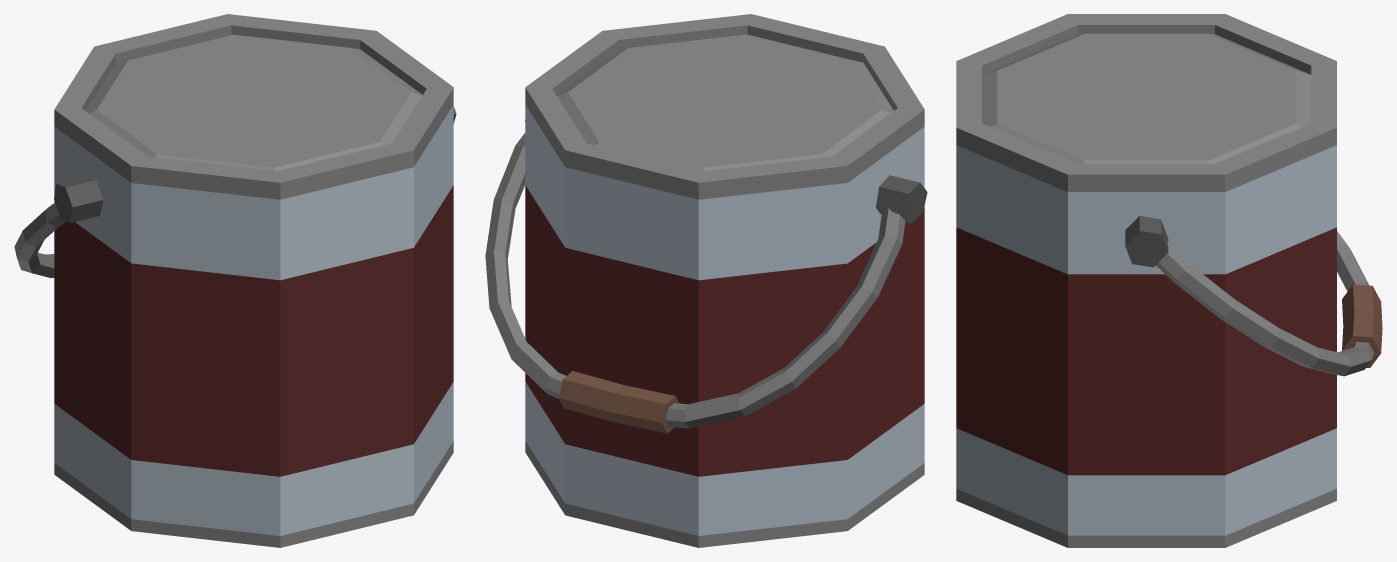
The model's file is SM_Props_Dye_03.glb.
3 views of the same model, side by side, from view 1: azimuth 30°, elevation 25°; view 2: azimuth 150°, elevation 25°; view 3: azimuth 270°, elevation 25° (orthographic). The views are drawn at different scales.
Visible parts, largest first — view 1: SM_Props_Dye_03; view 2: SM_Props_Dye_03; view 3: SM_Props_Dye_03.
Boxes of the visible parts, x1,y1,x2,y2 form: SM_Props_Dye_03: [14, 14, 456, 547]; SM_Props_Dye_03: [485, 14, 927, 547]; SM_Props_Dye_03: [956, 14, 1382, 547].
Bounding box in the file's own units: 0.2662 × 0.2417 × 0.2501.
Materials: 1 (1 with a texture image).
